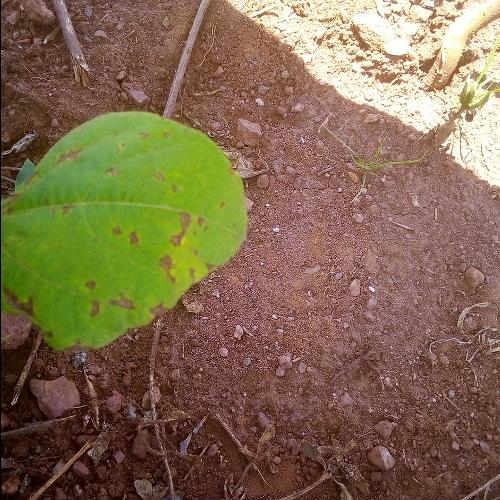mozaik: (79, 181, 215, 356)
